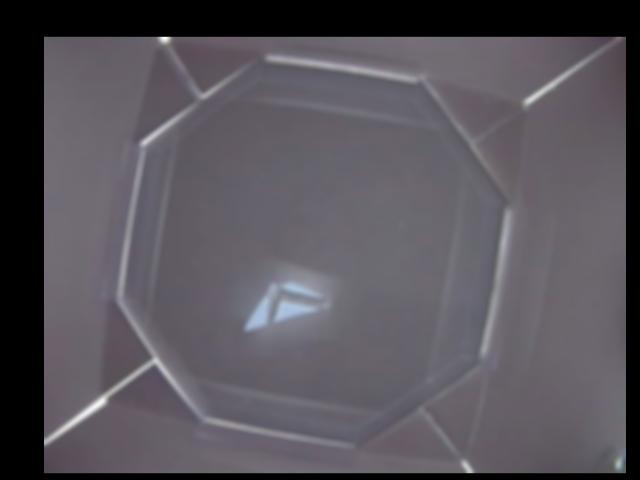China: (243, 284, 328, 332)
